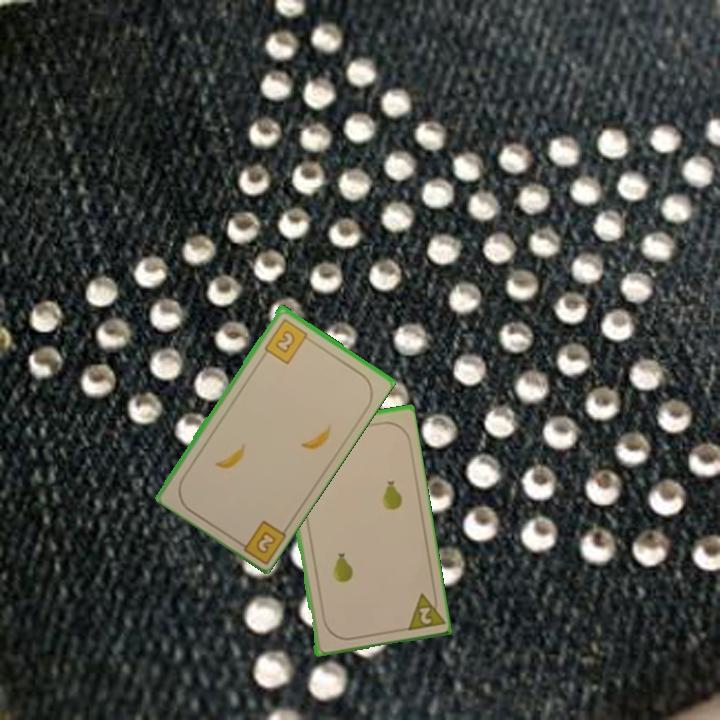2b: (260, 315, 315, 366), (232, 516, 289, 565)
2p: (401, 586, 445, 633)
